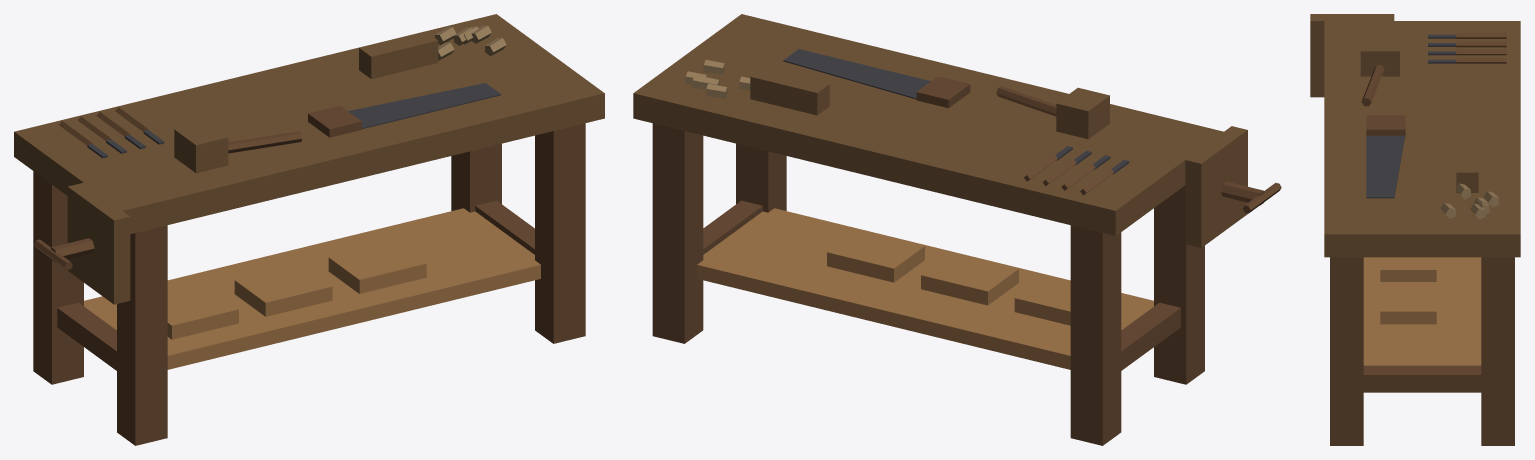
The model's file is Workbench.fbx.
The picture shows the model from 3 angles, left to right: view 1: azimuth 30°, elevation 25°; view 2: azimuth 150°, elevation 25°; view 3: azimuth 270°, elevation 25°; orthographic projection. The views are drawn at different scales.
Visible parts, largest first — view 1: Workbench; view 2: Workbench; view 3: Workbench.
Boxes of the visible parts, box(x1,y1,x2,y2) form: Workbench: box(14, 14, 604, 445); Workbench: box(633, 14, 1281, 445); Workbench: box(1310, 14, 1520, 445).
Bounding box in the file's own units: 2.01 × 0.96 × 0.75.
